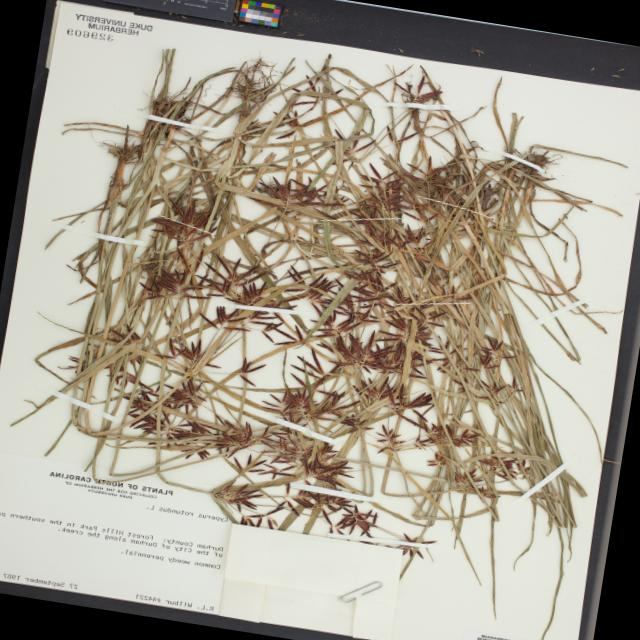cyperus: (172, 318, 540, 558), (235, 95, 542, 368), (67, 53, 286, 362)
